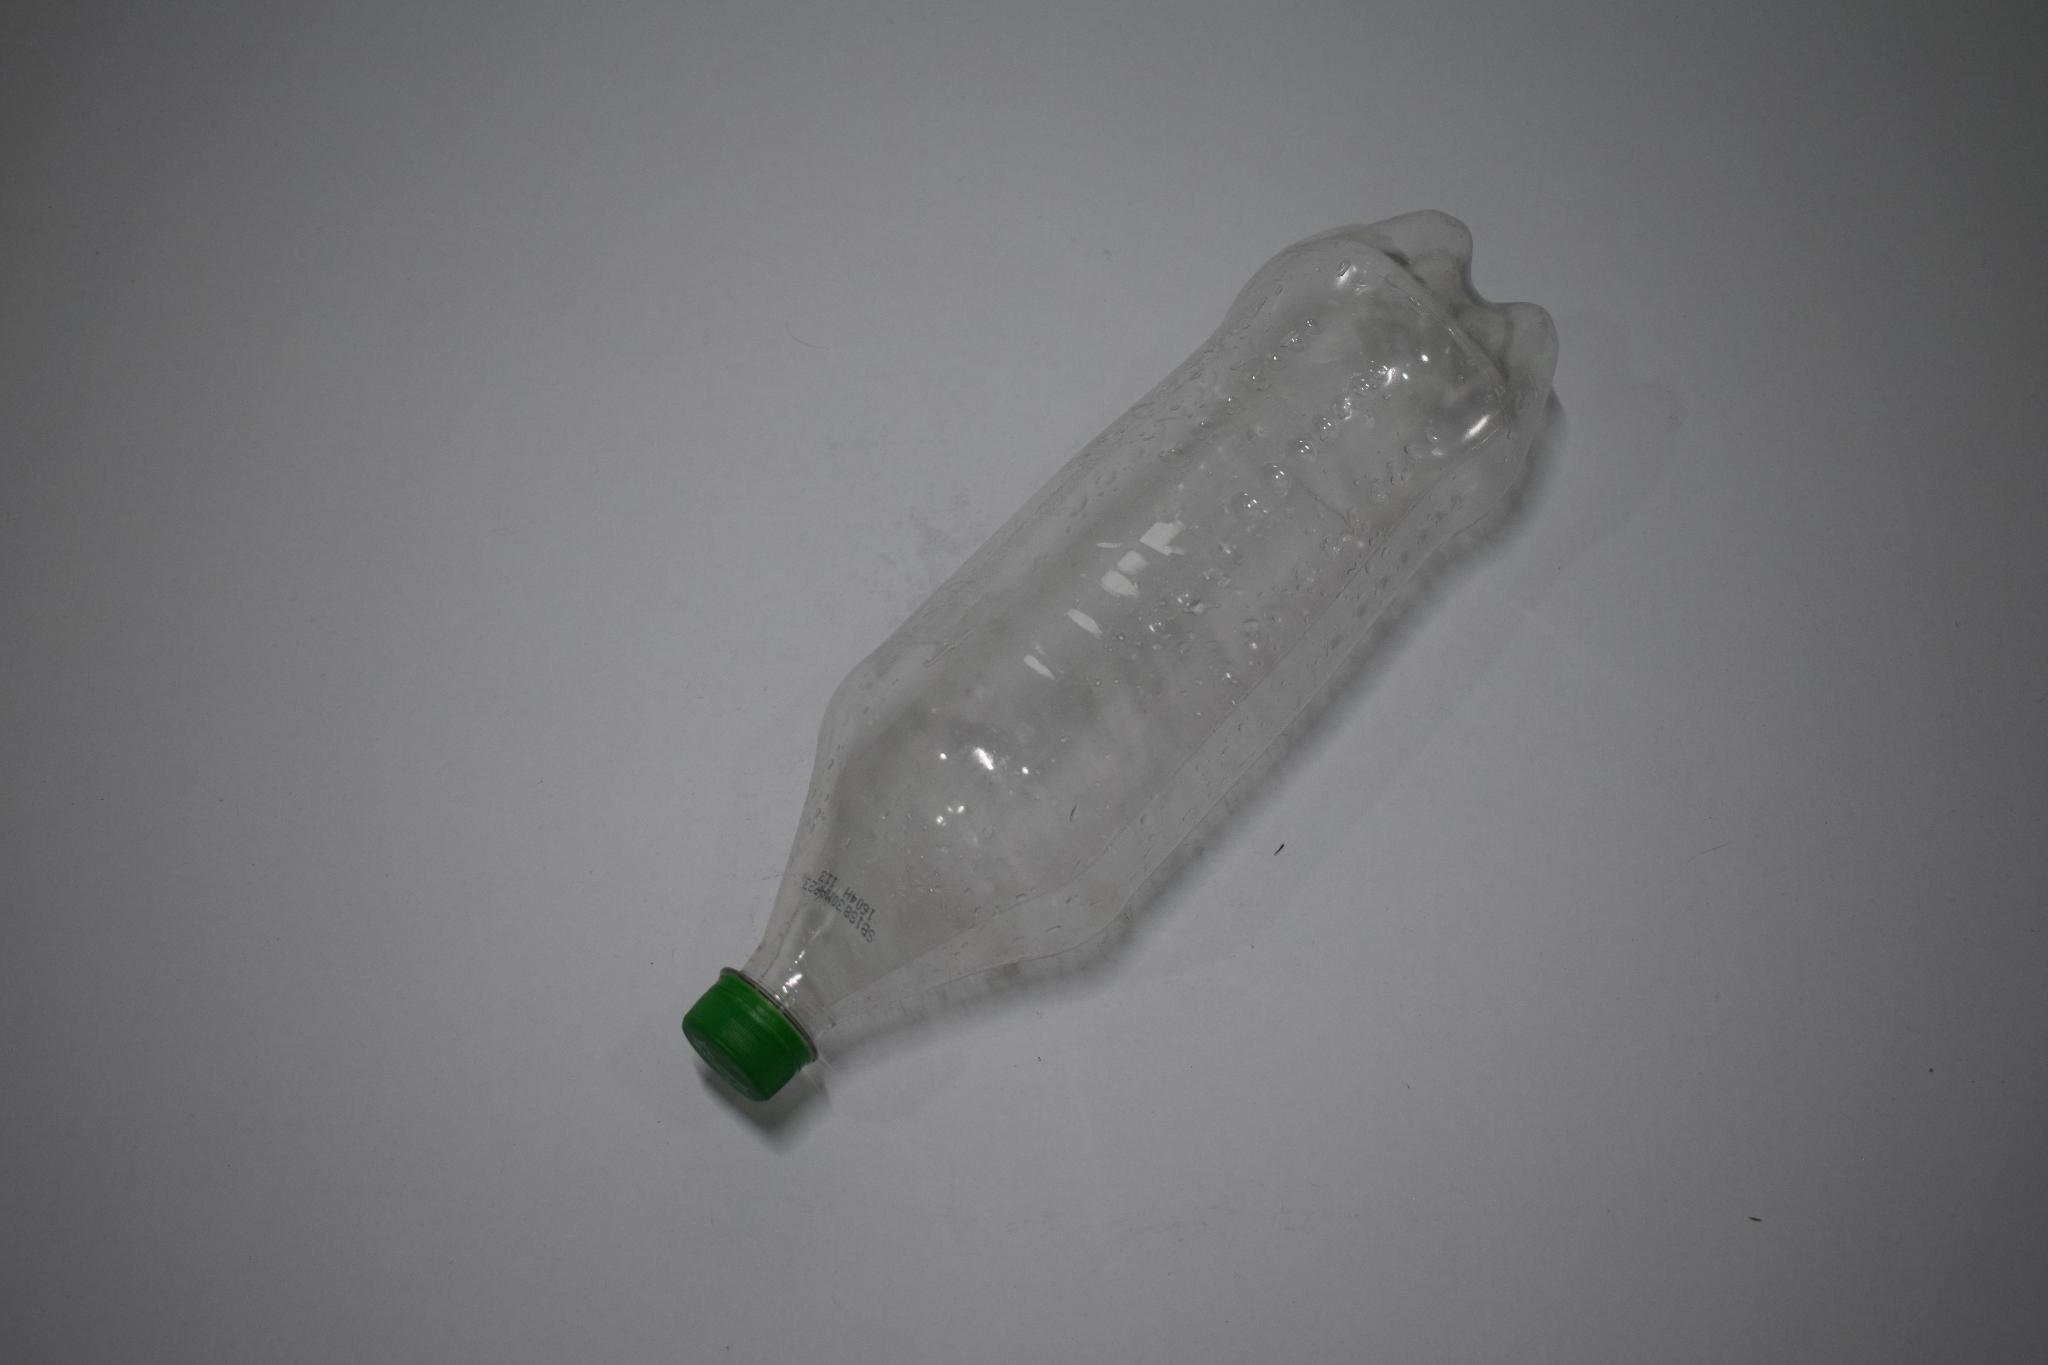bottle: (658, 207, 1604, 1121)
